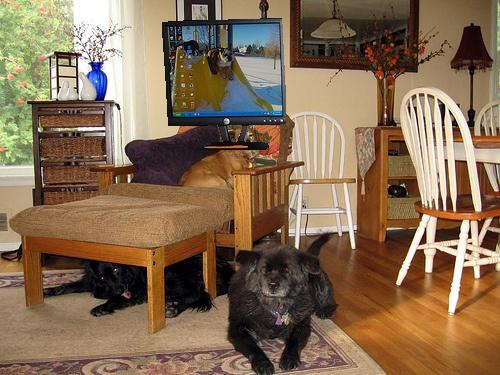tampered: (163, 19, 286, 150)
